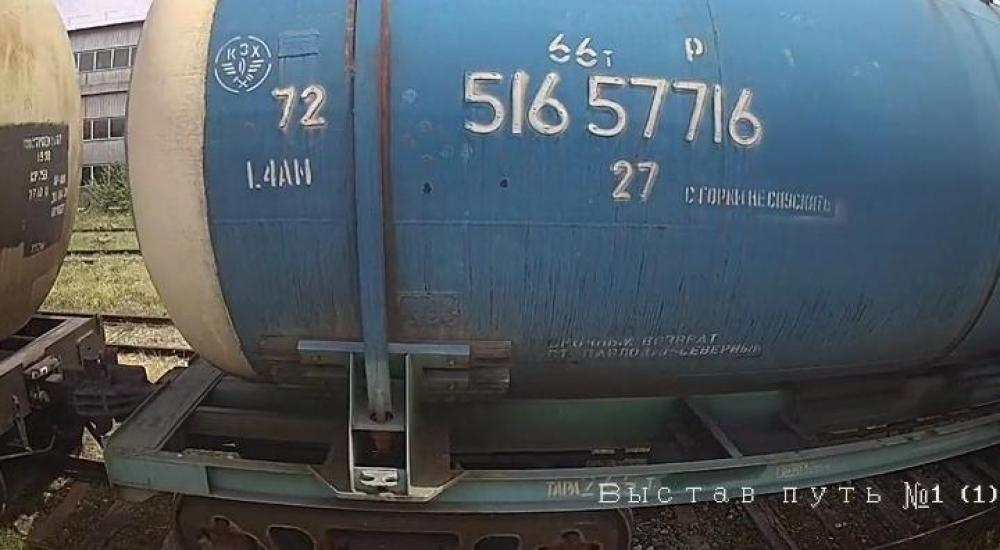Wagon-number: (454, 61, 773, 154)
